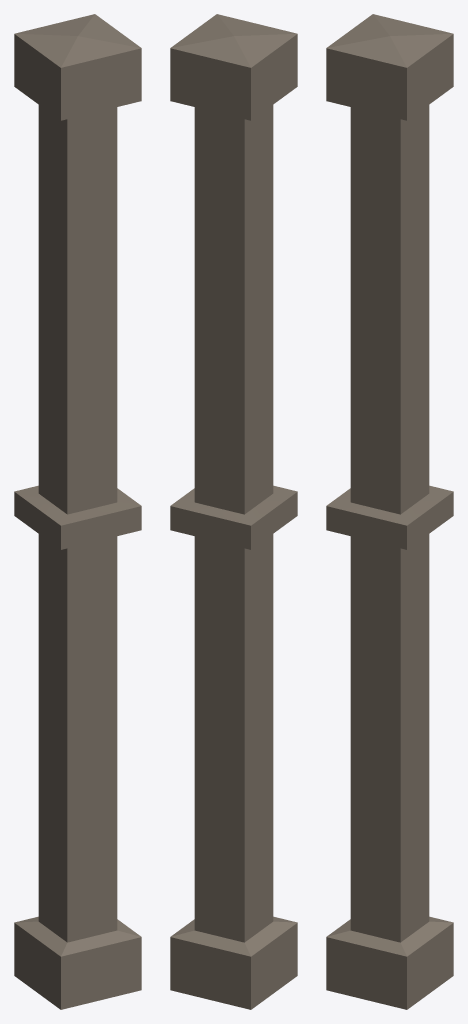
File: SM_Bld_Base_Pillar_Metal_02.obj
3 views of the same model, side by side, from view 1: azimuth 30°, elevation 25°; view 2: azimuth 150°, elevation 25°; view 3: azimuth 330°, elevation 25° (orthographic).
Visible parts, largest first — view 1: SM_Bld_Base_Pillar_Metal_02_0; view 2: SM_Bld_Base_Pillar_Metal_02_0; view 3: SM_Bld_Base_Pillar_Metal_02_0.
Part boxes in pixels (x1,y1,x2,y2): SM_Bld_Base_Pillar_Metal_02_0: (14, 14, 141, 1009); SM_Bld_Base_Pillar_Metal_02_0: (170, 14, 297, 1009); SM_Bld_Base_Pillar_Metal_02_0: (326, 14, 453, 1009).
Size of the model in its own units: 0.2697 by 3.03 by 0.2697.
1 material, 1 textured.
